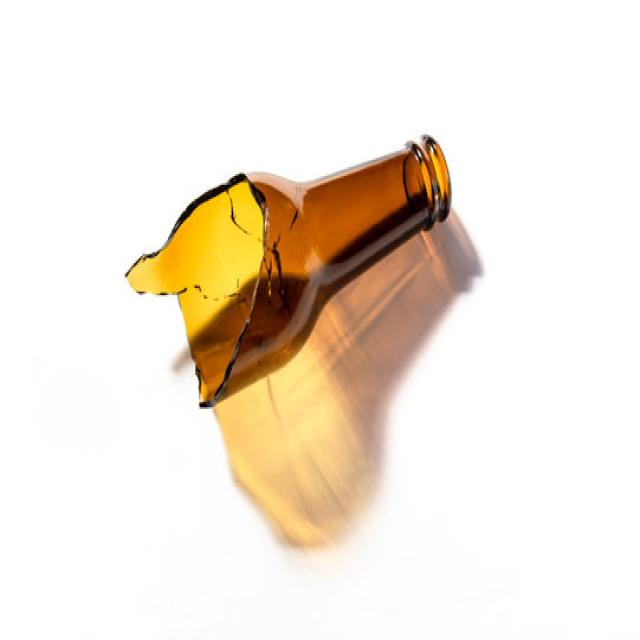Dry Waste: (122, 127, 452, 409)
